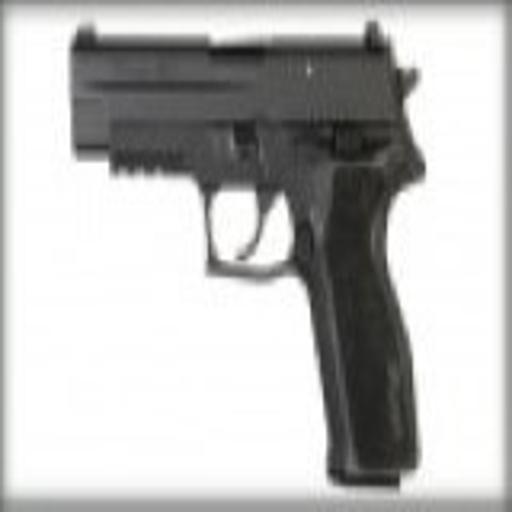Handgun: (66, 16, 434, 493)
